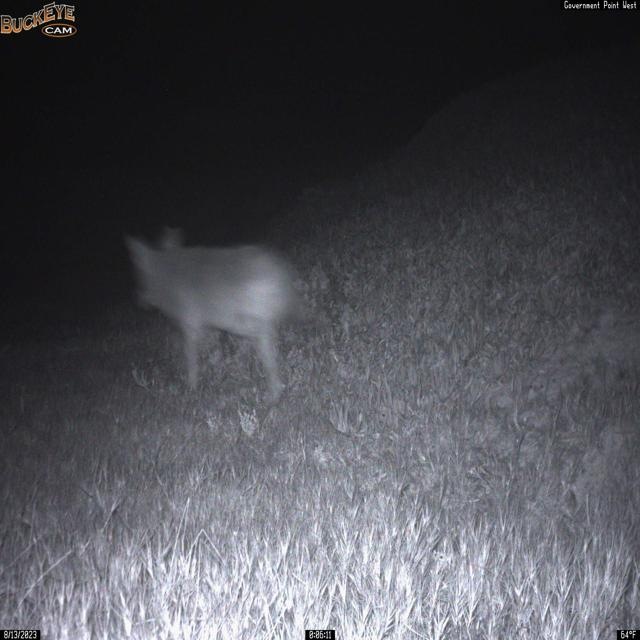coyote: (121, 222, 319, 408)
